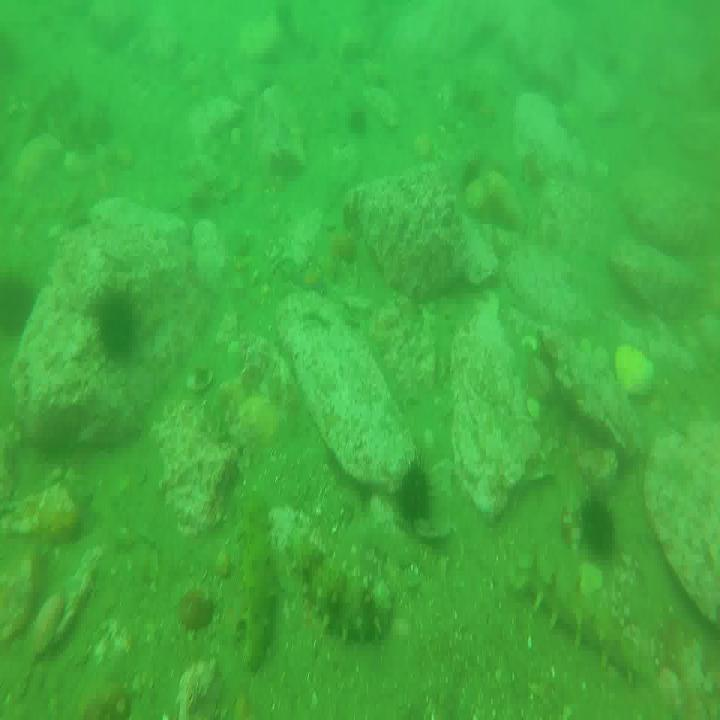echinus: (578, 492, 617, 564), (396, 452, 432, 529), (96, 291, 137, 358)
holothurian: (522, 552, 640, 680), (288, 532, 389, 640), (236, 493, 279, 666)
